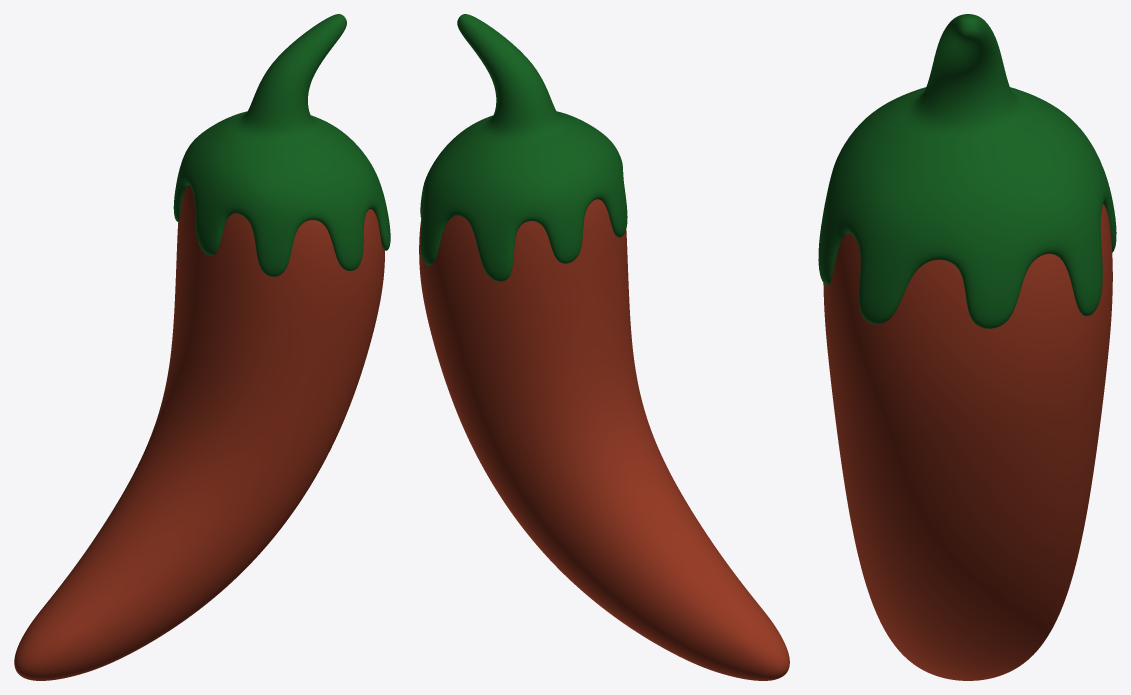
File: red chili.fbx
3 views of the same model, side by side, from view 1: azimuth 30°, elevation 25°; view 2: azimuth 150°, elevation 25°; view 3: azimuth 270°, elevation 25° (orthographic). The views are drawn at different scales.
Visible parts, largest first — view 1: Cube.004, Cube.002; view 2: Cube.004, Cube.002; view 3: Cube.004, Cube.002.
Boxes of the visible parts, x1,y1,x2,y2 form: Cube.004: (14, 185, 384, 680); Cube.002: (173, 14, 390, 276); Cube.004: (419, 199, 789, 680); Cube.002: (420, 14, 627, 281); Cube.004: (823, 204, 1112, 680); Cube.002: (818, 14, 1116, 328).
Bounding box in the file's own units: 102 × 161 × 52.85.
